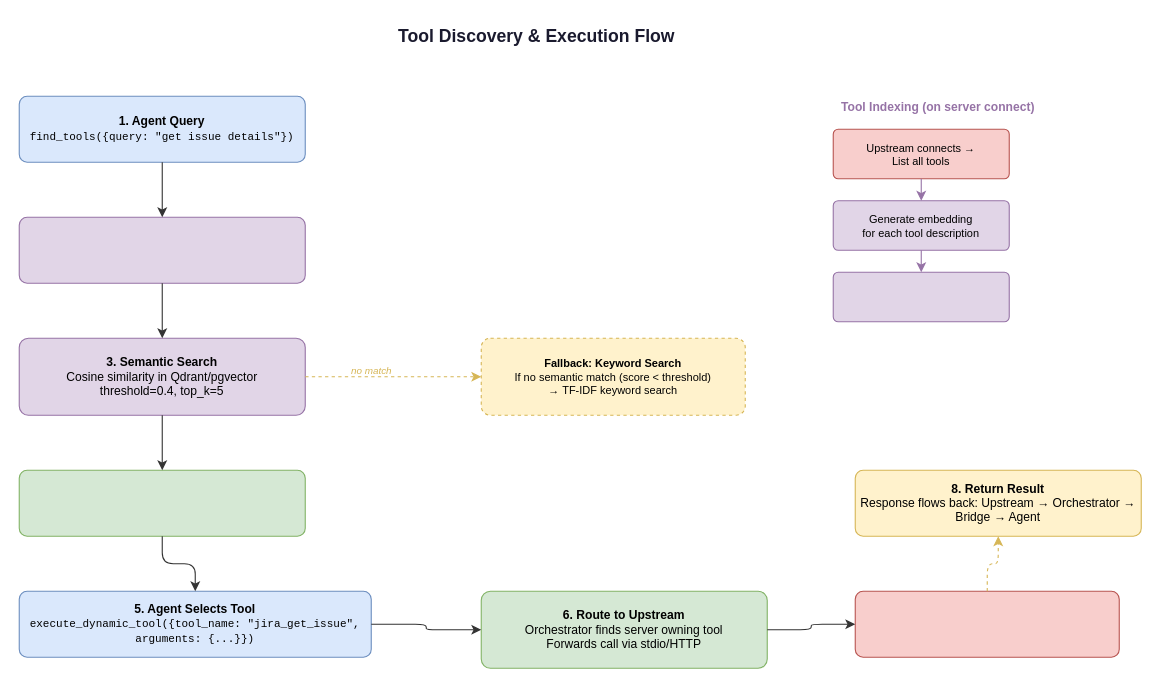
This 1161x688 diagram has some shape labels left out. The shapes that lost their labels are listed below. From the top down, each one's box as (x1, y1, x2, y2) in pixels, then its label:
(18, 216, 305, 283): 2. Generate Embedding Query → text-embedding-3-small → vector[768]
(832, 271, 1009, 322): Store vectors in Qdrant / pgvector
(18, 469, 305, 536): 4. Return Matched Tools [{name, description, server, score}]
(854, 590, 1119, 657): 7. Upstream Executes Jira MCP Server processes request
